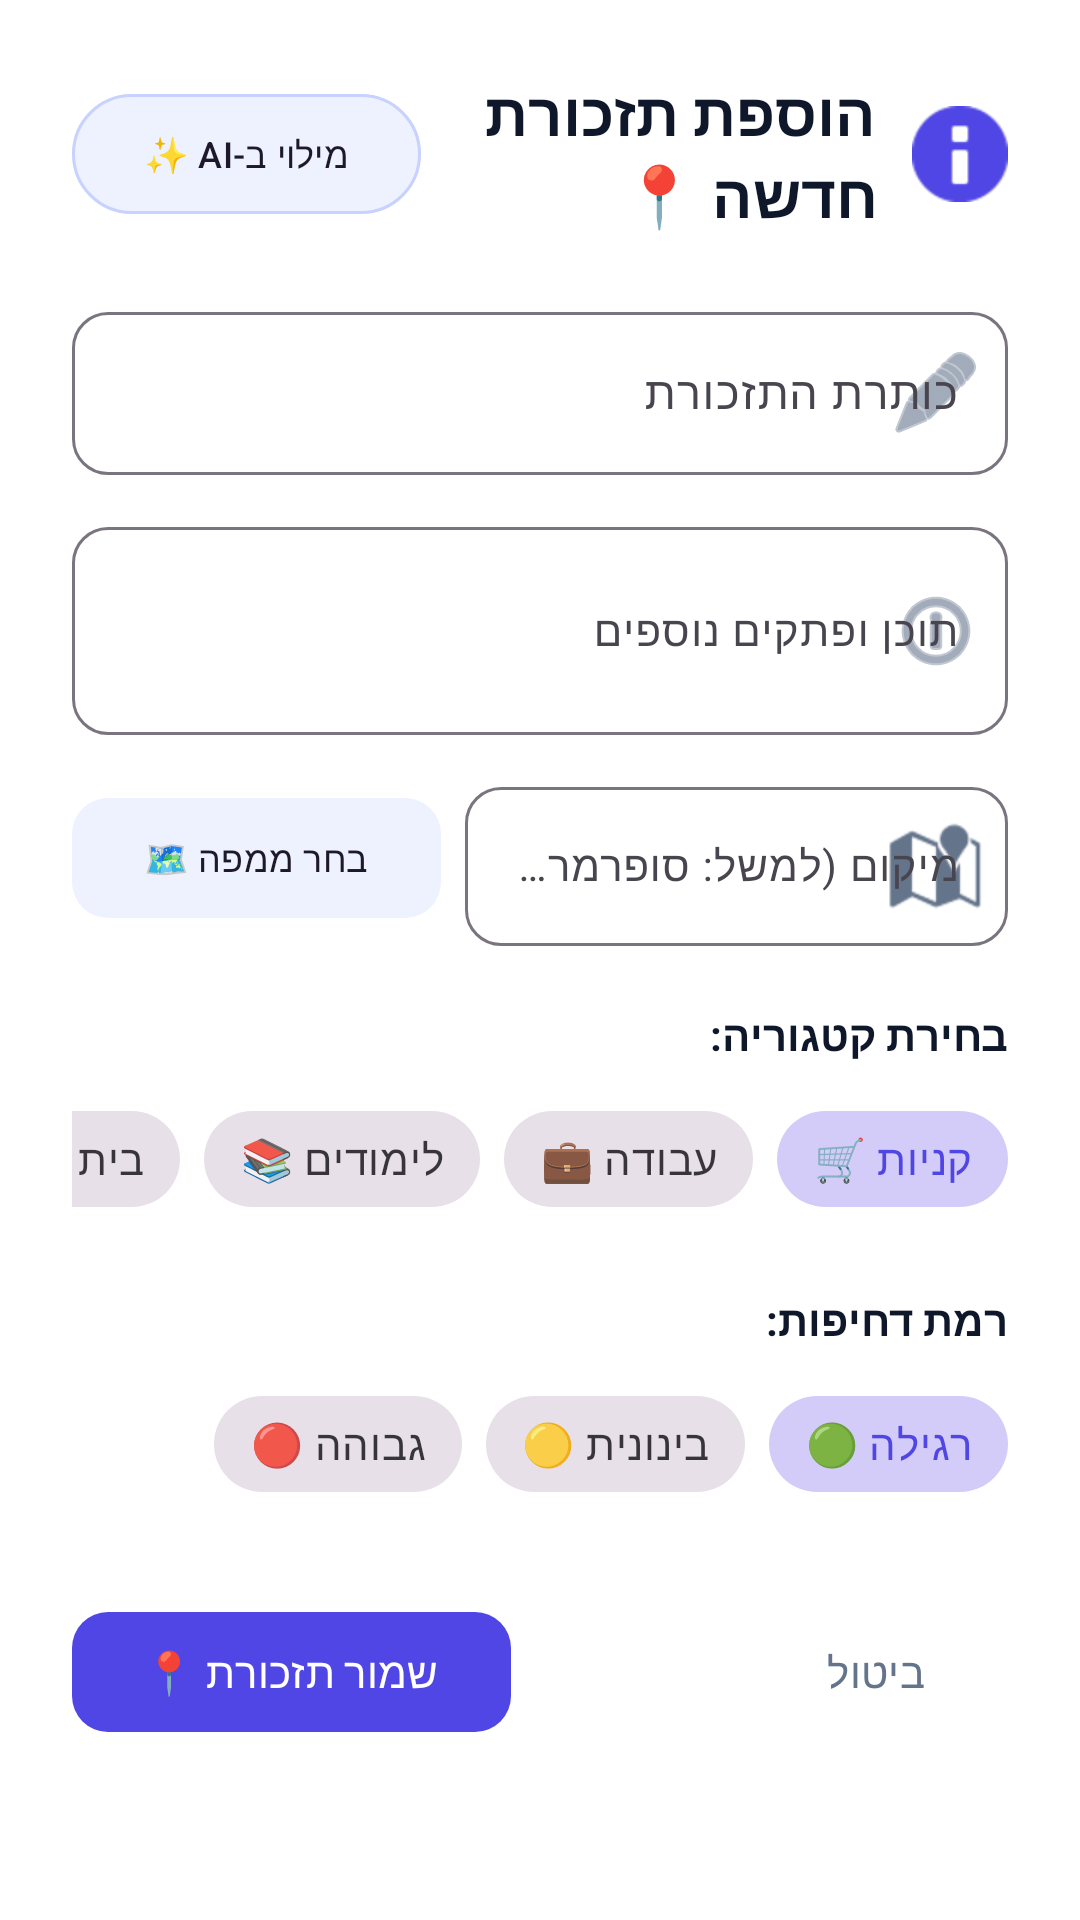

Named icons in this screenshot (1080w x 1920h) and their centers, [x,y]:
info: [960,154]
